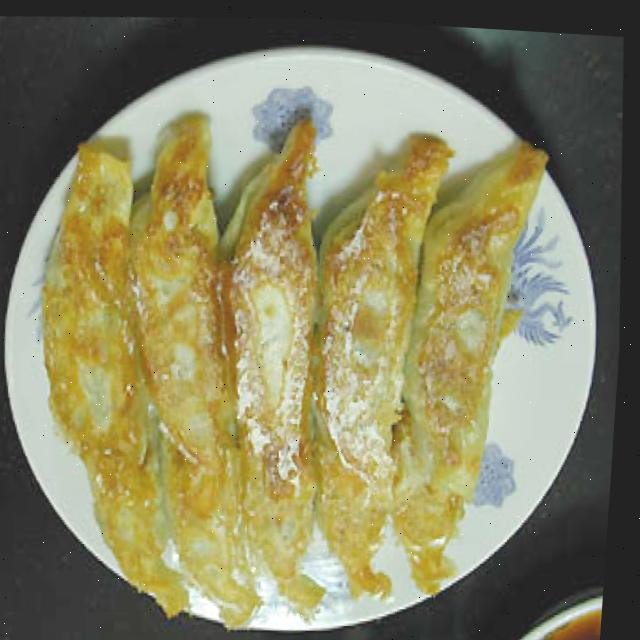带馅早点: (9, 88, 594, 640)
